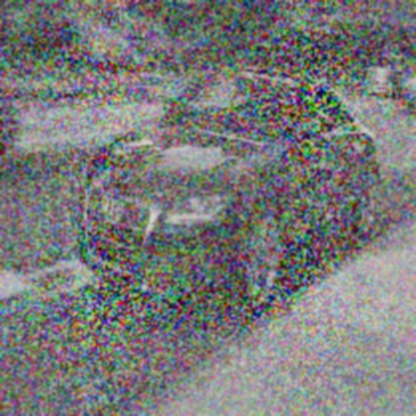Vehicle: (75, 66, 383, 320)
